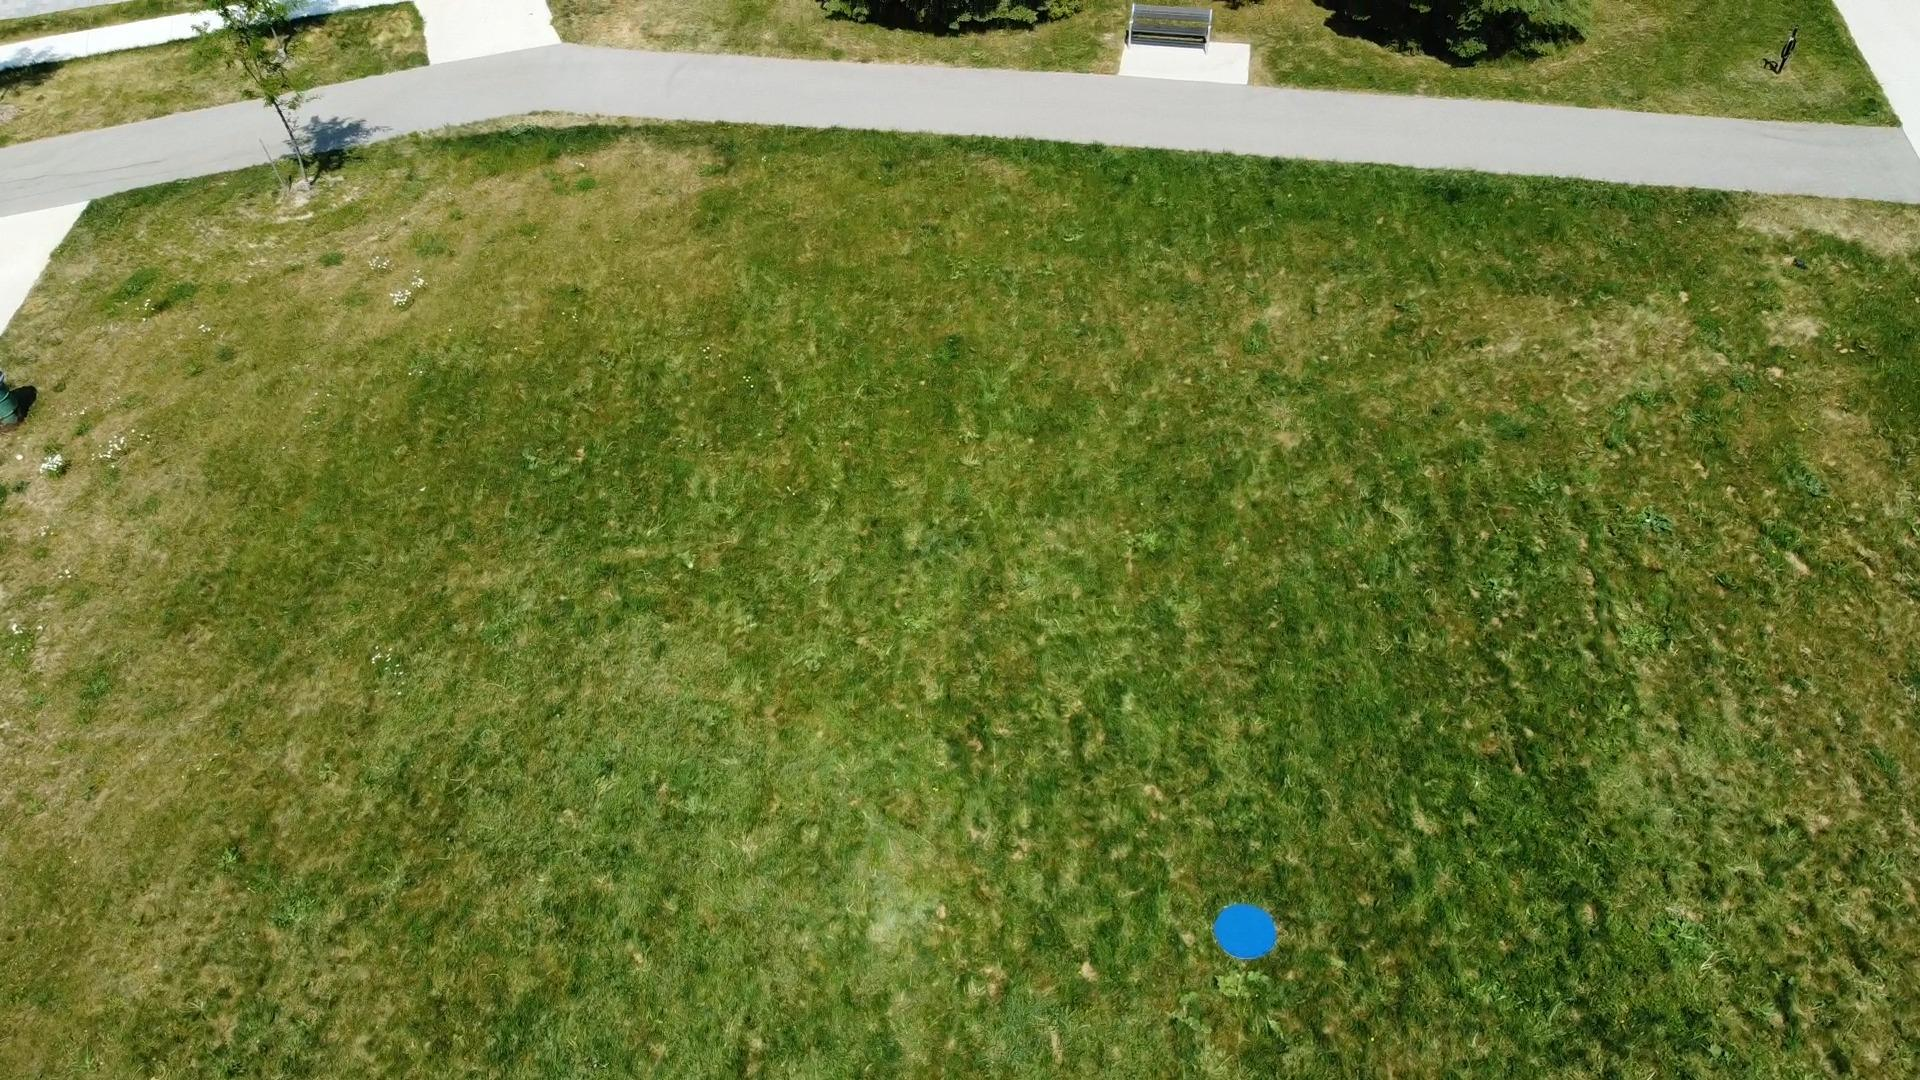Blue: (1213, 901, 1279, 960)
